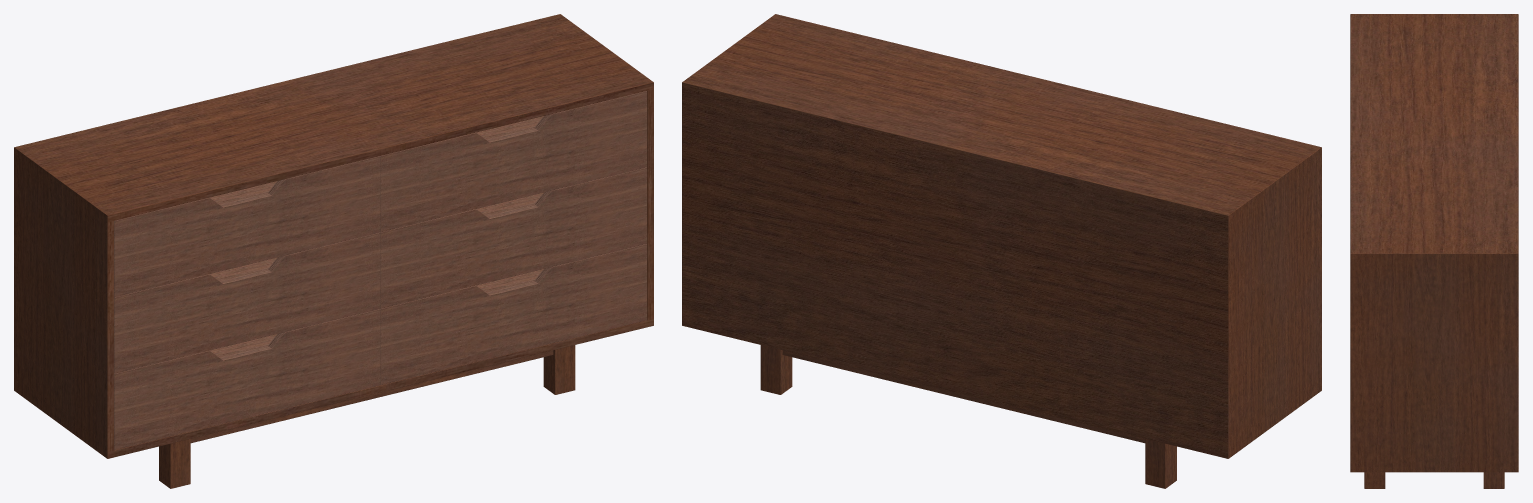
Rendered from 3_cabi.glb.
3 renders of one model, left to right at view 1: azimuth 30°, elevation 25°; view 2: azimuth 150°, elevation 25°; view 3: azimuth 270°, elevation 25°, orthographic. The views are drawn at different scales.
Visible parts, largest first — view 1: Raleigh Wide Dresser; view 2: Raleigh Wide Dresser; view 3: Raleigh Wide Dresser.
Part boxes in pixels (x1=…): Raleigh Wide Dresser: x1=14, y1=14, x2=653, y2=488; Raleigh Wide Dresser: x1=682, y1=14, x2=1321, y2=488; Raleigh Wide Dresser: x1=1350, y1=14, x2=1518, y2=488.
Bounding box in the file's own units: 1.62 × 0.84 × 0.48.
Materials: 2 (2 with a texture image).
